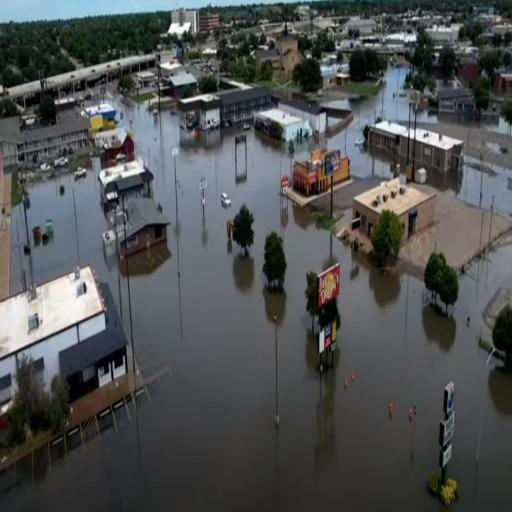flood: (0, 98, 512, 510), (27, 157, 129, 336), (346, 93, 392, 183), (483, 167, 512, 213), (384, 67, 408, 120), (459, 162, 481, 208), (328, 130, 345, 151), (295, 141, 315, 156)
house: (0, 261, 130, 460), (353, 169, 437, 257), (3, 115, 89, 163), (114, 196, 172, 260), (220, 80, 275, 133), (292, 147, 351, 196), (98, 159, 154, 209), (410, 127, 468, 174), (181, 89, 220, 142), (255, 109, 302, 146), (372, 118, 407, 157), (86, 97, 117, 136), (439, 86, 473, 114), (171, 71, 196, 105), (172, 8, 199, 34), (135, 68, 156, 96)
